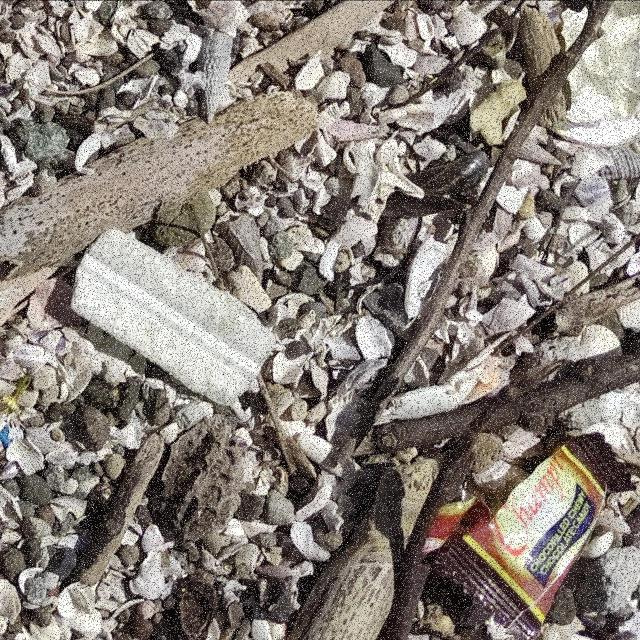plastic_waste: (415, 429, 635, 640)
